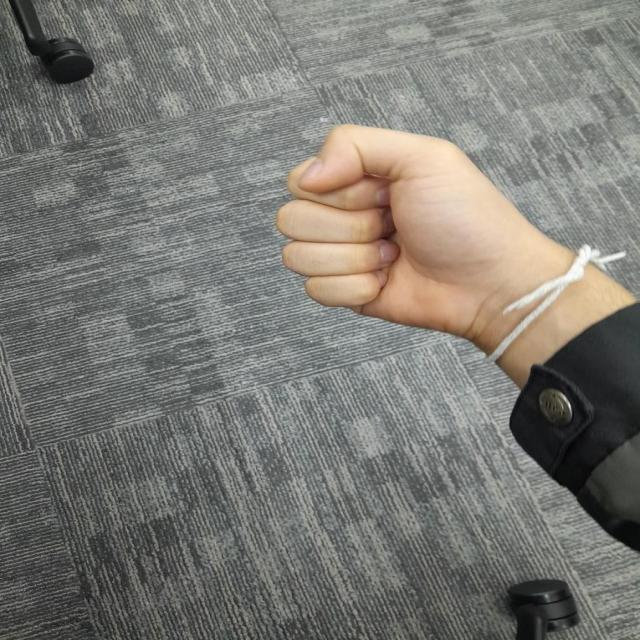fist: (278, 122, 511, 344)
